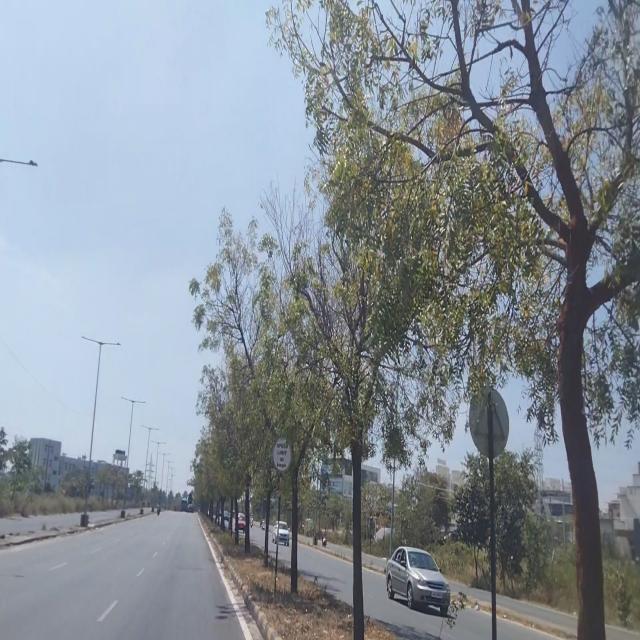bien_nguy_hiem: (272, 433, 292, 473)
